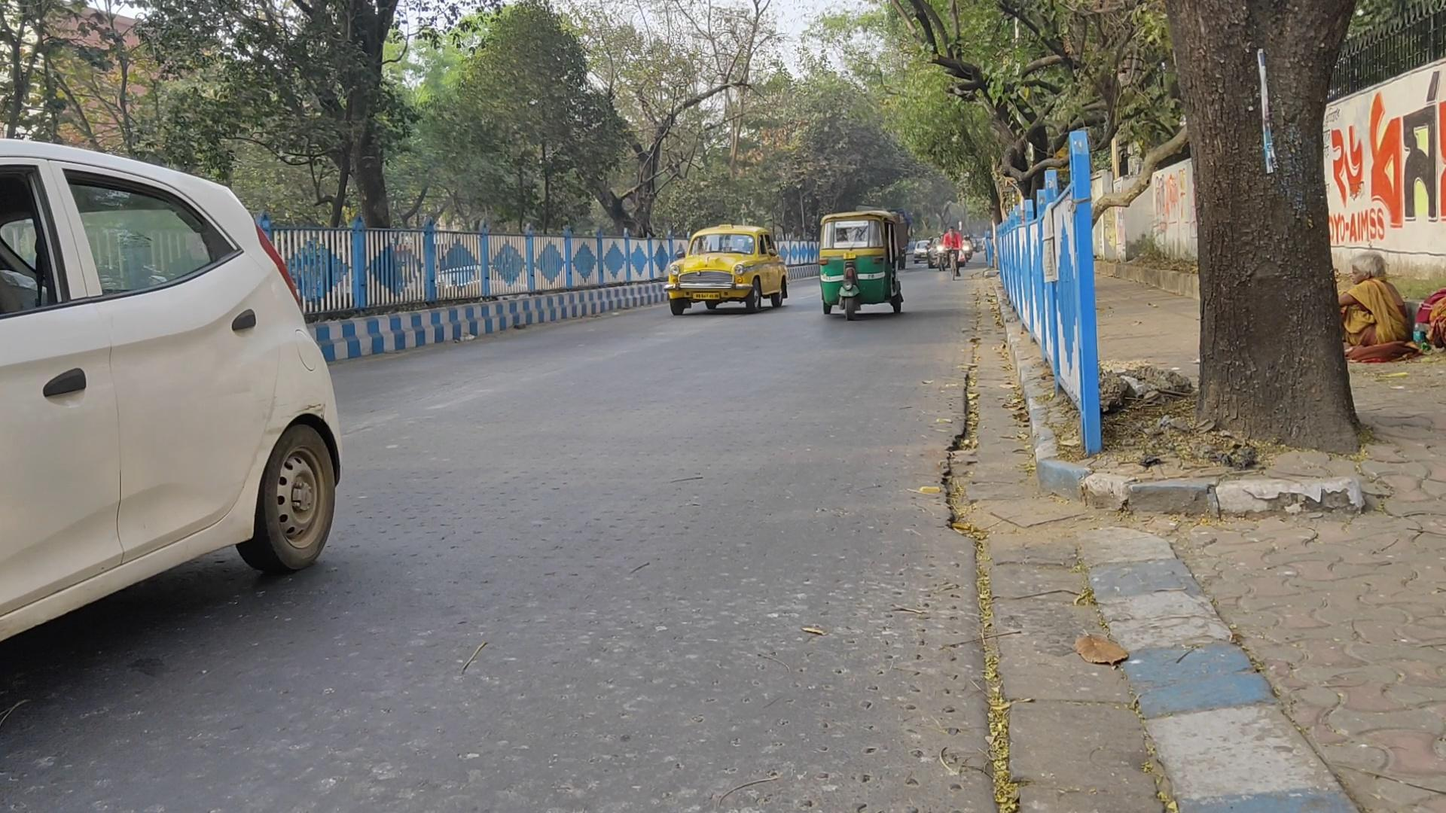Auto: (817, 209, 905, 321)
bike: (943, 226, 964, 282)
car: (1, 135, 344, 659), (665, 222, 789, 315)
